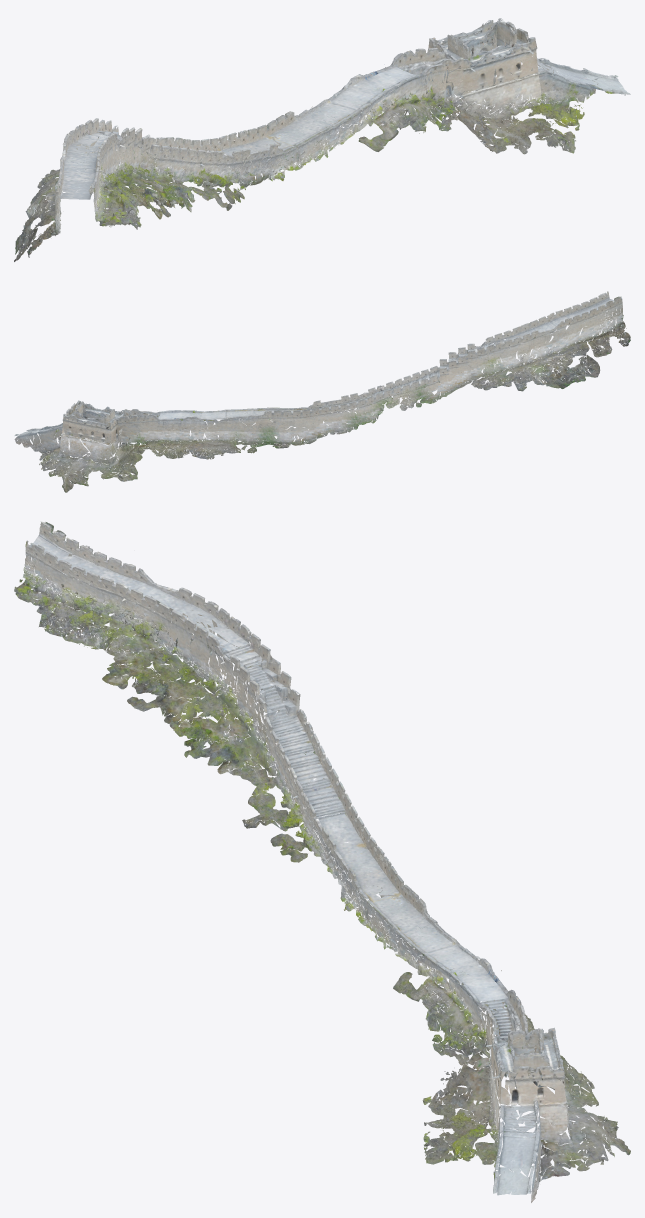
3 renders of one model, top to bottom at view 1: azimuth 30°, elevation 25°; view 2: azimuth 150°, elevation 25°; view 3: azimuth 270°, elevation 25°, orthographic. The views are drawn at different scales.
Bounding box in the file's own units: 2 × 0.6733 × 1.26.
Materials: 1 (1 with a texture image).
